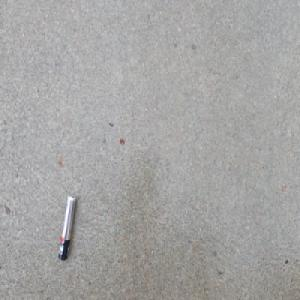Battery: (55, 191, 75, 261)
